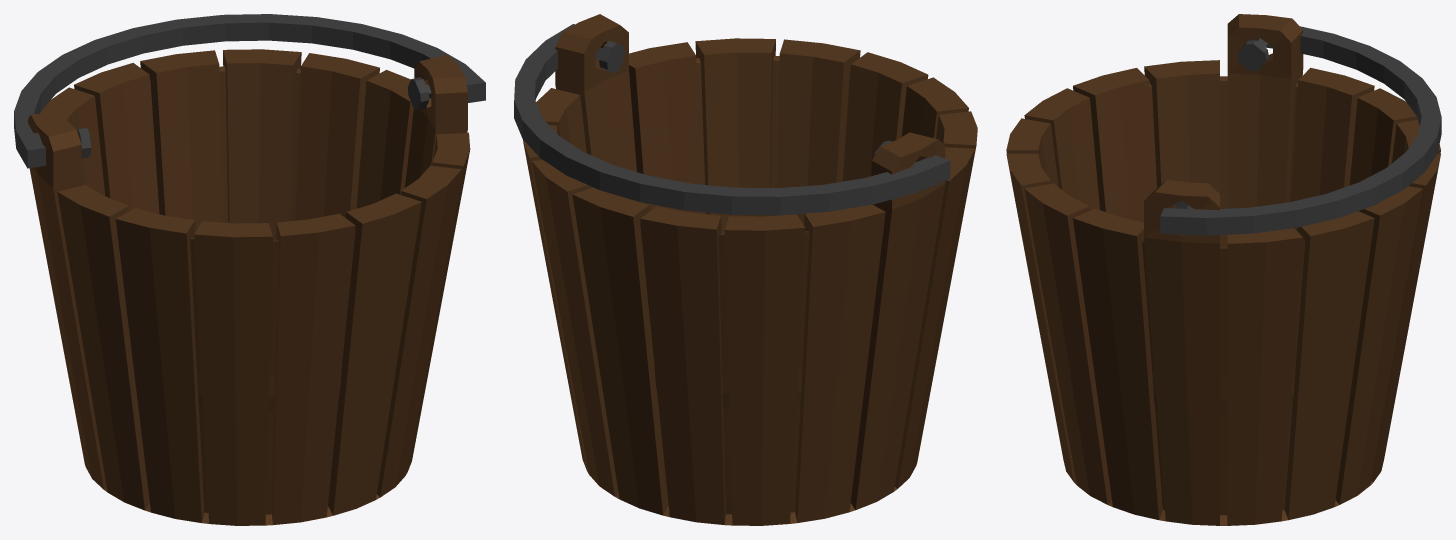
File: BucketWWater.fbx
The picture shows the model from 3 angles, left to right: view 1: azimuth 30°, elevation 25°; view 2: azimuth 150°, elevation 25°; view 3: azimuth 270°, elevation 25°; orthographic projection. The views are drawn at different scales.
Visible parts, largest first — view 1: Circle, Circle.001; view 2: Circle, Circle.001; view 3: Circle, Circle.001.
Part boxes in pixels (bbox=[...]): Circle: bbox=[28, 49, 470, 525]; Circle.001: bbox=[14, 14, 485, 168]; Circle: bbox=[523, 14, 977, 525]; Circle.001: bbox=[514, 24, 950, 215]; Circle: bbox=[1006, 14, 1440, 525]; Circle.001: bbox=[1160, 26, 1441, 235].
Size of the model in its own units: 281 by 233 by 260.
